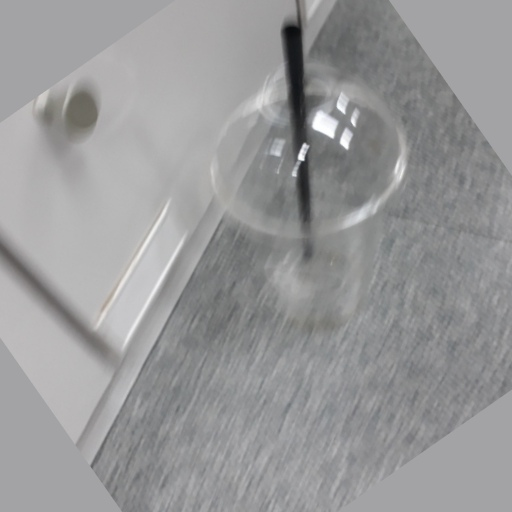Plastic_2: (213, 23, 410, 328)
